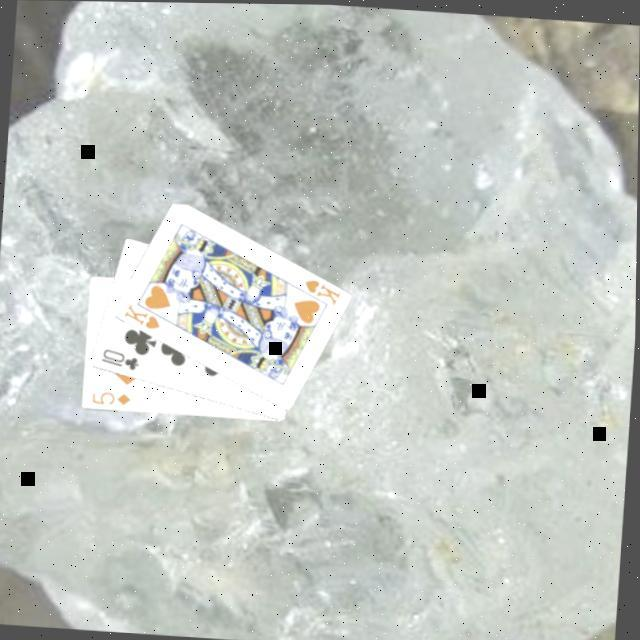10C: (96, 347, 141, 376)
5D: (88, 390, 132, 412)
KH: (119, 302, 163, 335), (298, 277, 342, 310)
